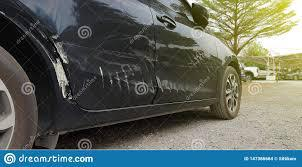doorouter-dent: (62, 3, 162, 118)
quaterpanel-dent: (0, 0, 71, 131)
